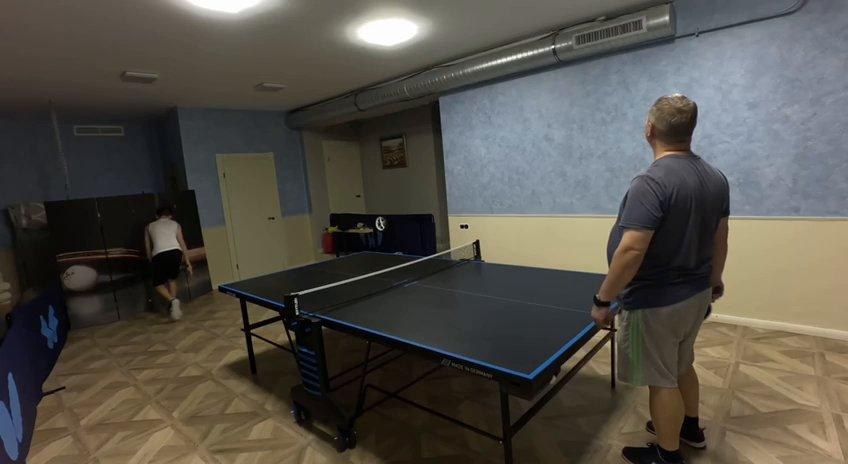Net: (286, 241, 481, 319)
Player1: (144, 206, 191, 319)
Player2: (597, 94, 729, 456), (144, 206, 191, 319)
Table: (224, 254, 618, 372)
